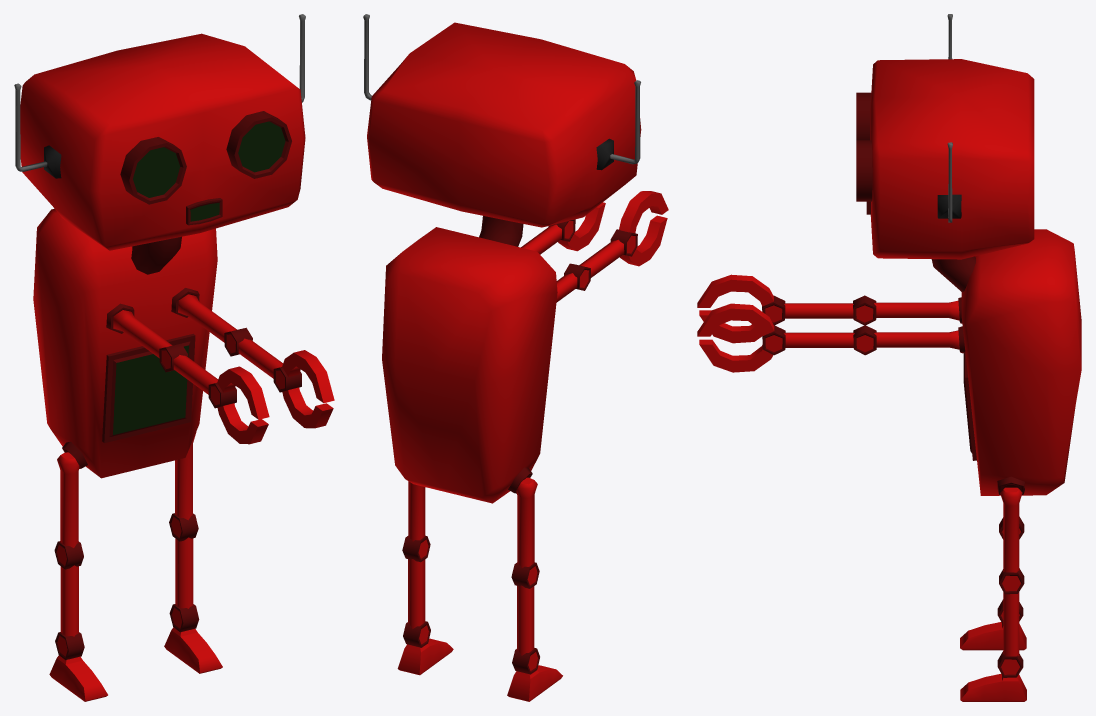
File: Robo1.FBX
3 renders of one model, left to right at view 1: azimuth 30°, elevation 25°; view 2: azimuth 150°, elevation 25°; view 3: azimuth 270°, elevation 25°, orthographic. The views are drawn at different scales.
Parts seen in each view (by area): view 1: Head, Body, Right Leg Lower, Left Leg Lower, Right Arm Lower, Left Arm Lower, Right Leg Upper, Right Foot, Foot, LH Up, RH Up, Left Leg Upper (+4 smaller); view 2: Head, Body, Right Leg Lower, Left Leg Lower, Right Arm Lower, Right Leg Upper, Right Foot, Foot, RH Up, Left Leg Upper, RH Lower, Left Arm Lower (+1 smaller); view 3: Head, Body, Left Arm Lower, Right Arm Lower, Left Leg Lower, Foot, Left Leg Upper, LH Up, RH Up, Right Arm Upper, Left Arm Upper, LH Down (+2 smaller).
Boxes of the visible parts, x1=… form: Head: x1=14, y1=14, x2=305, y2=250; Body: x1=33, y1=208, x2=217, y2=478; Right Leg Lower: x1=54, y1=541, x2=84, y2=660; Left Leg Lower: x1=169, y1=513, x2=199, y2=632; Right Arm Lower: x1=159, y1=343, x2=236, y2=408; Left Arm Lower: x1=224, y1=327, x2=301, y2=392; Right Leg Upper: x1=57, y1=452, x2=79, y2=547; Right Foot: x1=49, y1=655, x2=107, y2=701; Foot: x1=164, y1=627, x2=222, y2=673; LH Up: x1=282, y1=350, x2=334, y2=403; RH Up: x1=217, y1=366, x2=269, y2=419; Left Leg Upper: x1=175, y1=432, x2=196, y2=520; Head: x1=363, y1=14, x2=641, y2=227; Body: x1=382, y1=216, x2=557, y2=503; Right Leg Lower: x1=511, y1=562, x2=539, y2=674; Left Leg Lower: x1=402, y1=535, x2=430, y2=647; Right Arm Lower: x1=564, y1=229, x2=637, y2=290; Right Leg Upper: x1=516, y1=477, x2=537, y2=567; Right Foot: x1=507, y1=665, x2=562, y2=701; Foot: x1=397, y1=638, x2=453, y2=675; RH Up: x1=619, y1=191, x2=668, y2=233; Left Leg Upper: x1=408, y1=481, x2=425, y2=541; RH Lower: x1=620, y1=215, x2=667, y2=266; Left Arm Lower: x1=521, y1=219, x2=575, y2=254; Head: x1=856, y1=14, x2=1034, y2=259; Body: x1=931, y1=229, x2=1081, y2=495; Left Arm Lower: x1=762, y1=325, x2=876, y2=355; Right Arm Lower: x1=762, y1=295, x2=876, y2=325; Left Leg Lower: x1=997, y1=568, x2=1024, y2=677; Foot: x1=960, y1=674, x2=1026, y2=701; Left Leg Upper: x1=1000, y1=487, x2=1022, y2=572; LH Up: x1=697, y1=303, x2=774, y2=336; RH Up: x1=697, y1=274, x2=773, y2=307; Right Arm Upper: x1=874, y1=300, x2=959, y2=320; Left Arm Upper: x1=874, y1=330, x2=959, y2=349; LH Down: x1=699, y1=339, x2=773, y2=372.
Bounding box in the file's own units: 64.12 × 136 × 79.73.
